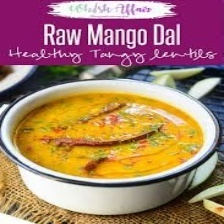dal: (9, 87, 209, 181)
